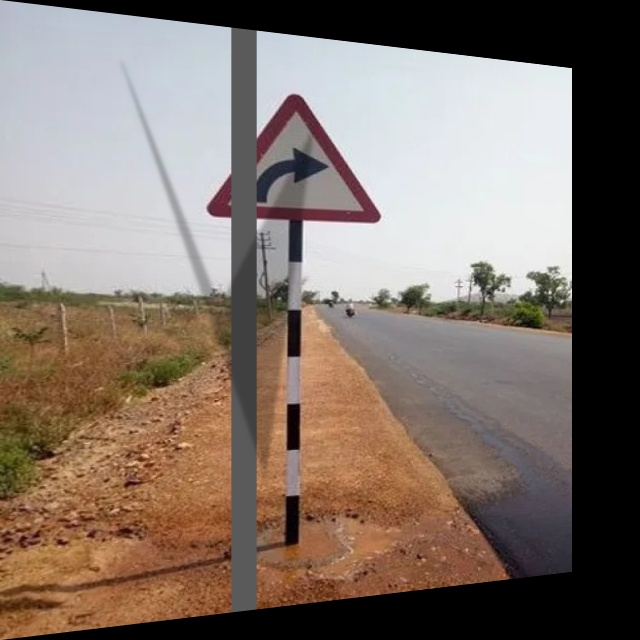Right_Hand_Curve: (207, 85, 375, 221)
